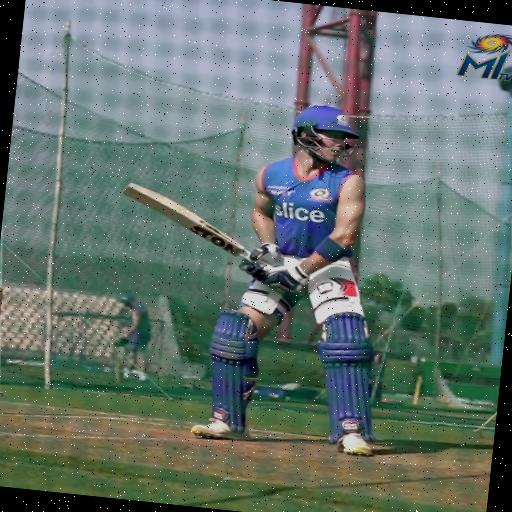Cricket bat: (124, 183, 249, 257)
